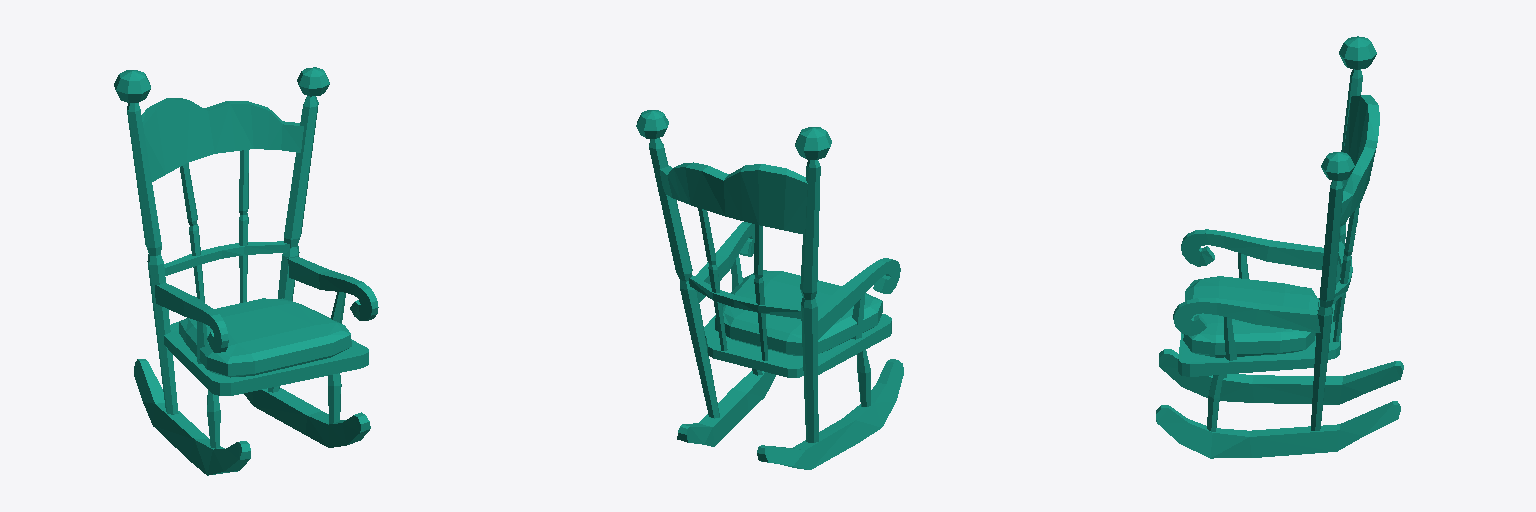
File: RockingChair.obj
3 renders of one model, left to right at view 1: azimuth 30°, elevation 25°; view 2: azimuth 150°, elevation 25°; view 3: azimuth 270°, elevation 25°, orthographic.
Visible parts, largest first — view 1: RockingChair; view 2: RockingChair; view 3: RockingChair.
Part boxes in pixels (x1,y1,x2,y2): RockingChair: (114,67,378,475); RockingChair: (636,110,903,469); RockingChair: (1156,36,1403,458).
Bounding box in the file's own units: 103 × 172 × 109.